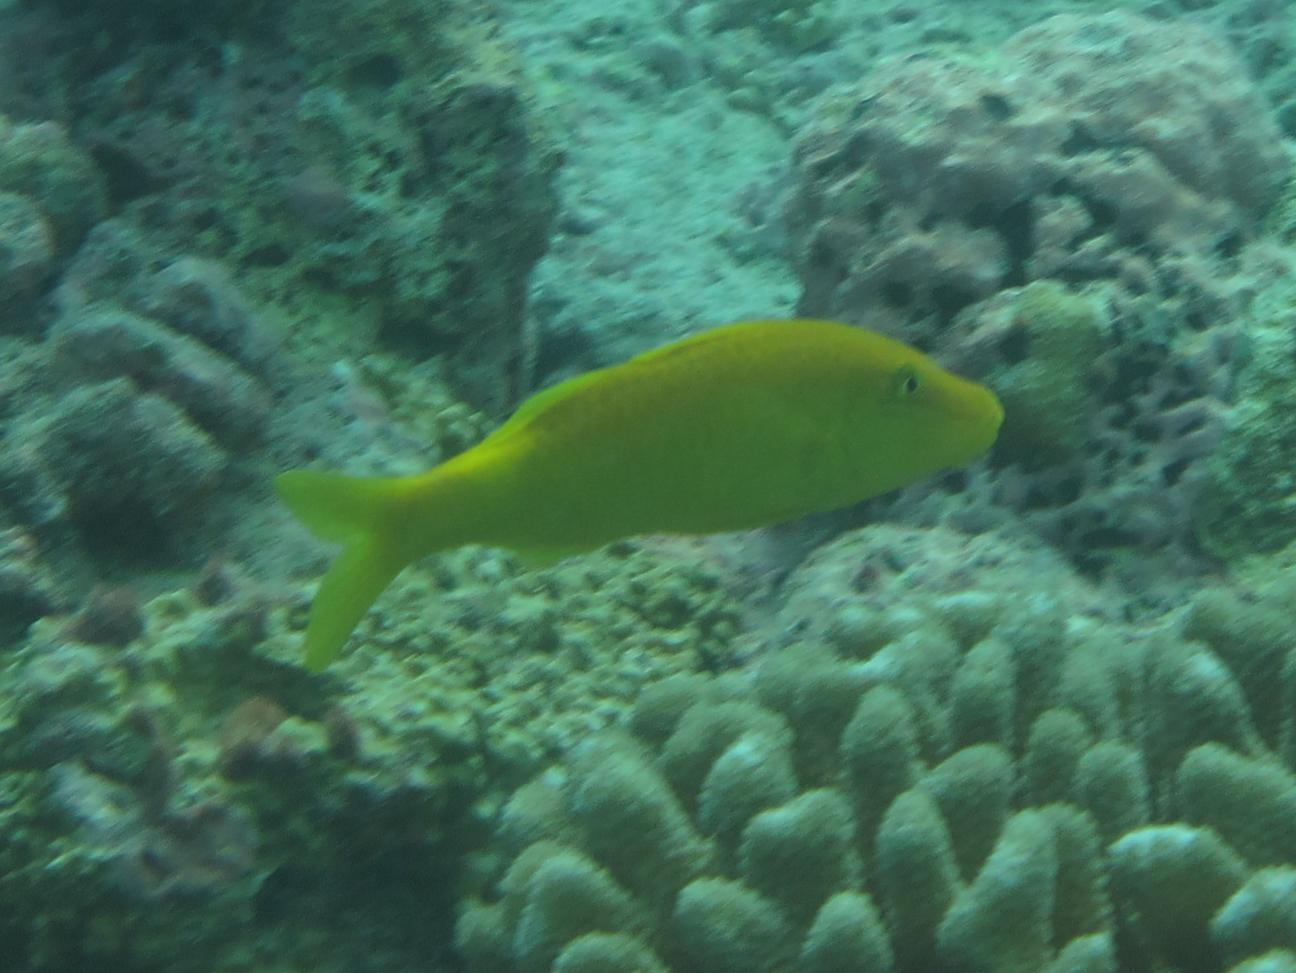Fish: (277, 300, 1034, 696)
